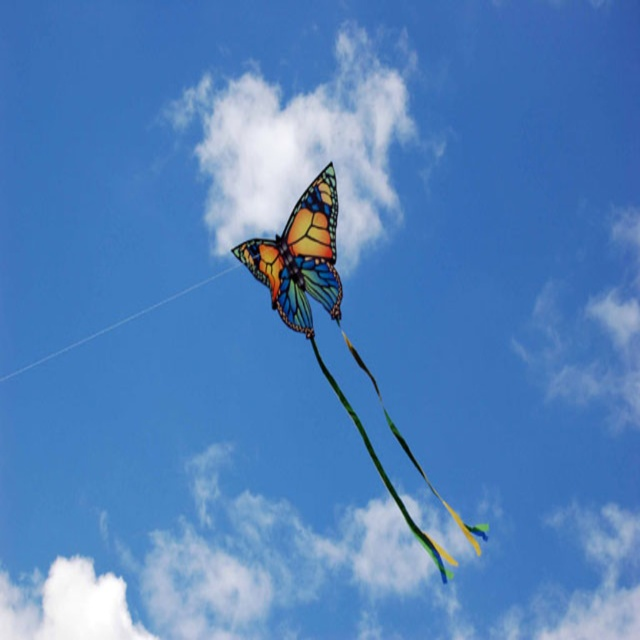Butterfly: (230, 160, 343, 339)
